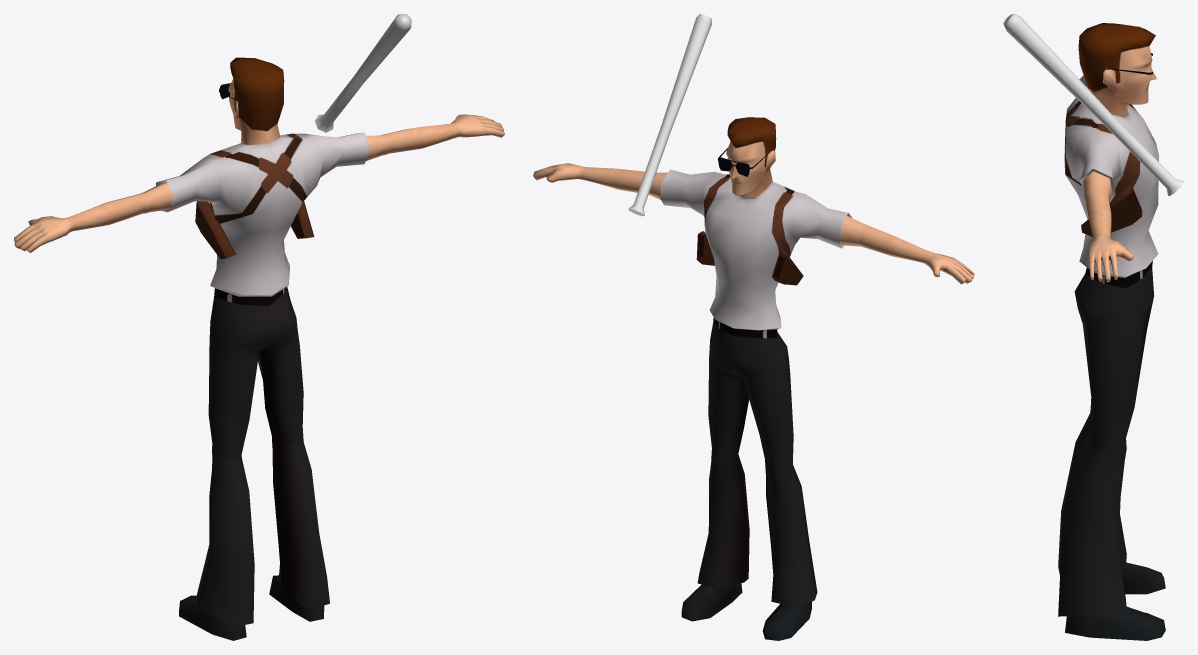
Rendered from Hammer@HammerBaseBallBat.FBX.
3 views of the same model, side by side, from view 1: azimuth 30°, elevation 25°; view 2: azimuth 150°, elevation 25°; view 3: azimuth 270°, elevation 25° (orthographic). The views are drawn at different scales.
Visible parts, largest first — view 1: Hammer, BaseBallBatExample; view 2: Hammer, BaseBallBatExample; view 3: Hammer, BaseBallBatExample.
Boxes of the visible parts, left/top/right/bottom form: Hammer: left=14, top=57, right=504, bottom=640; BaseBallBatExample: left=314, top=14, right=411, bottom=132; Hammer: left=533, top=117, right=974, bottom=640; BaseBallBatExample: left=628, top=14, right=711, bottom=216; Hammer: left=1058, top=23, right=1165, bottom=640; BaseBallBatExample: left=1003, top=14, right=1183, bottom=196.
Size of the model in its own units: 1.72 by 2.06 by 0.5228.
